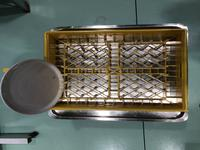Dish: (2, 59, 63, 114)
